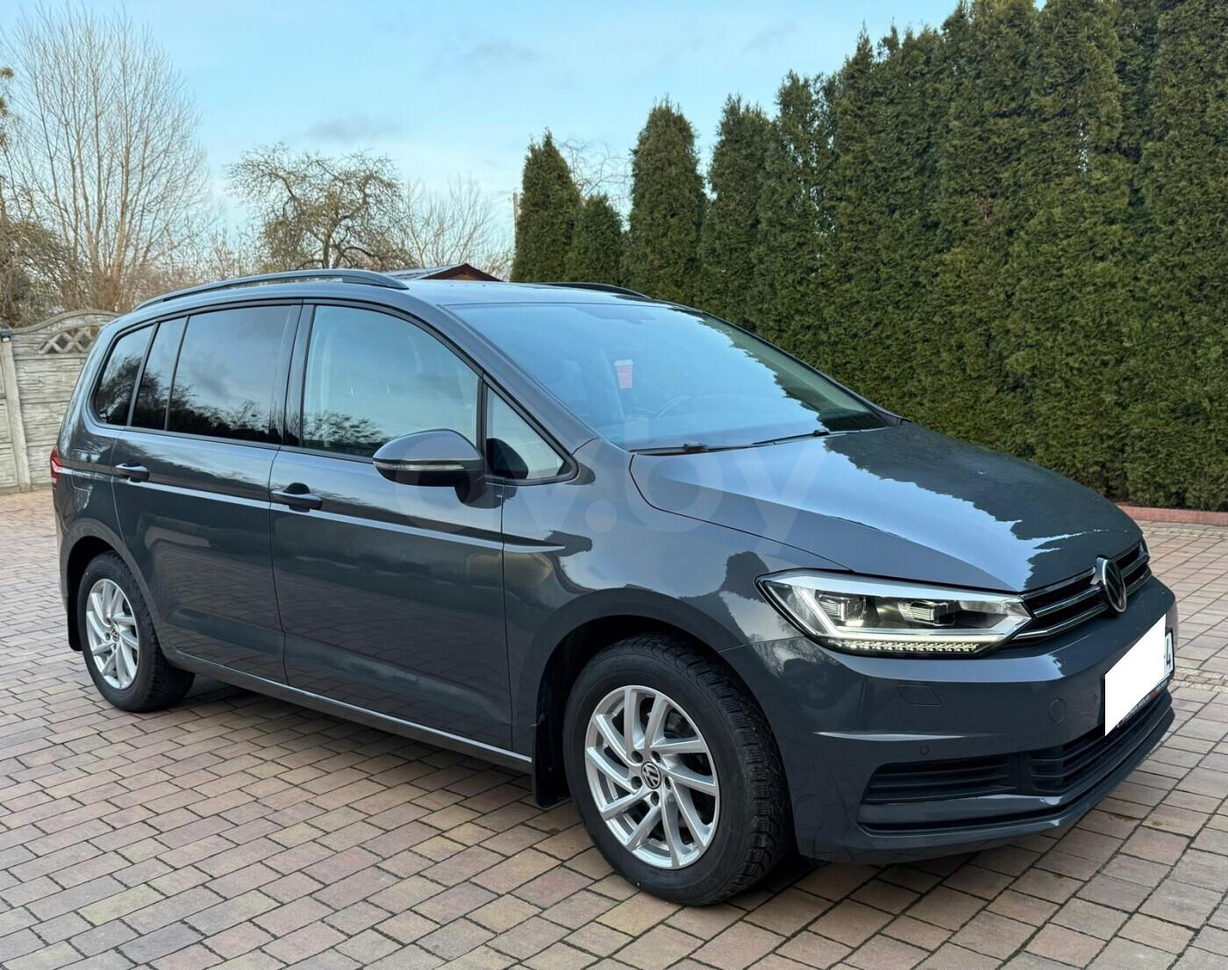Touran_2015: (36, 268, 1182, 905)
